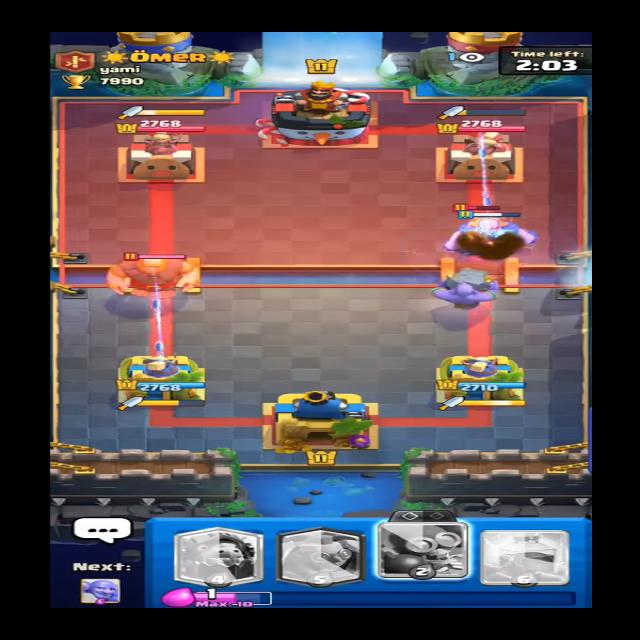giant: (101, 244, 202, 300)
